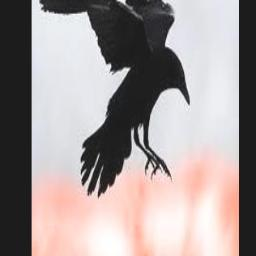Crow: (40, 0, 190, 197)
